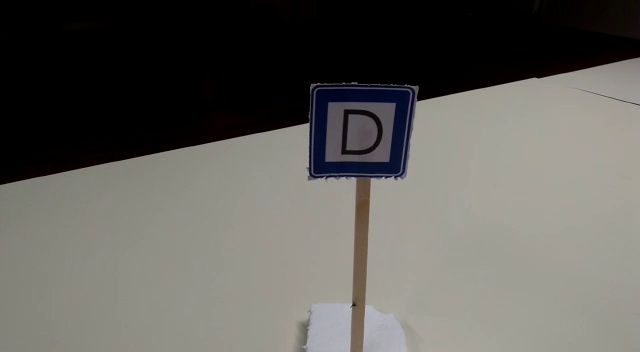durak: (307, 86, 414, 177)
